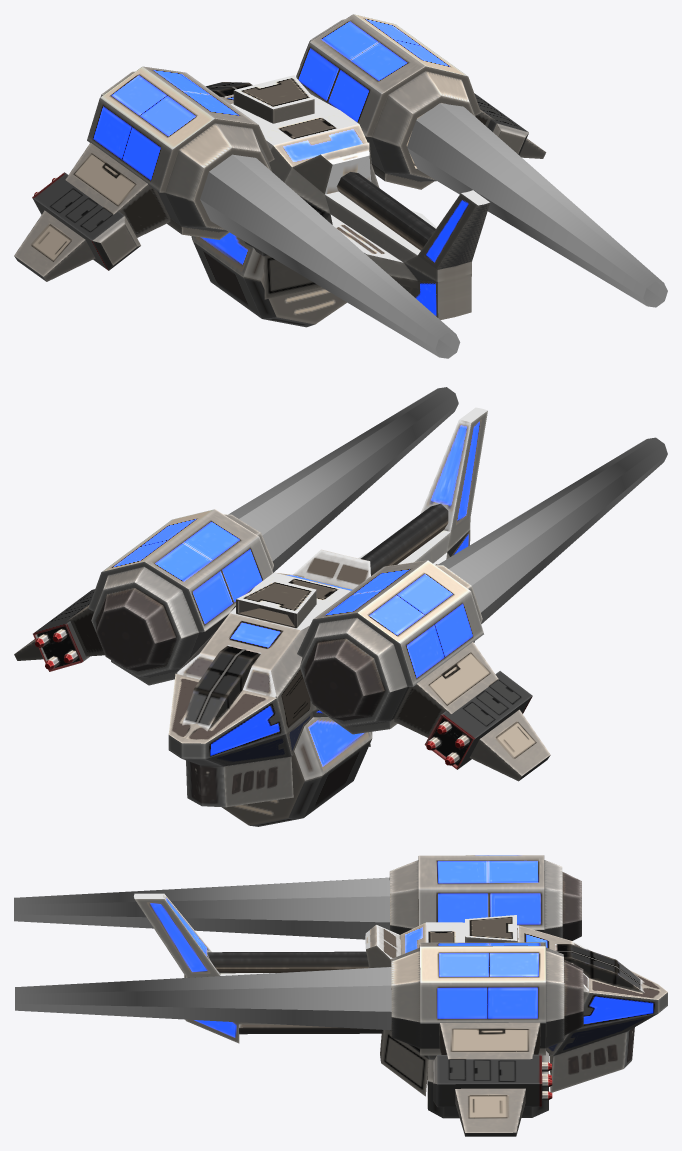
The model's file is FUT0110027.fbx.
3 views of the same model, one above another, from view 1: azimuth 30°, elevation 25°; view 2: azimuth 150°, elevation 25°; view 3: azimuth 270°, elevation 25° (orthographic). The views are drawn at different scales.
Parts seen in each view (by area): view 1: smFUT0110027; view 2: smFUT0110027; view 3: smFUT0110027.
Boxes of the visible parts, left/top/right/bottom form: smFUT0110027: left=14, top=14, right=667, bottom=358; smFUT0110027: left=14, top=387, right=667, bottom=826; smFUT0110027: left=14, top=855, right=667, bottom=1136.
Size of the model in its own units: 926 by 440 by 1181.
Materials: 2 (1 with a texture image).
